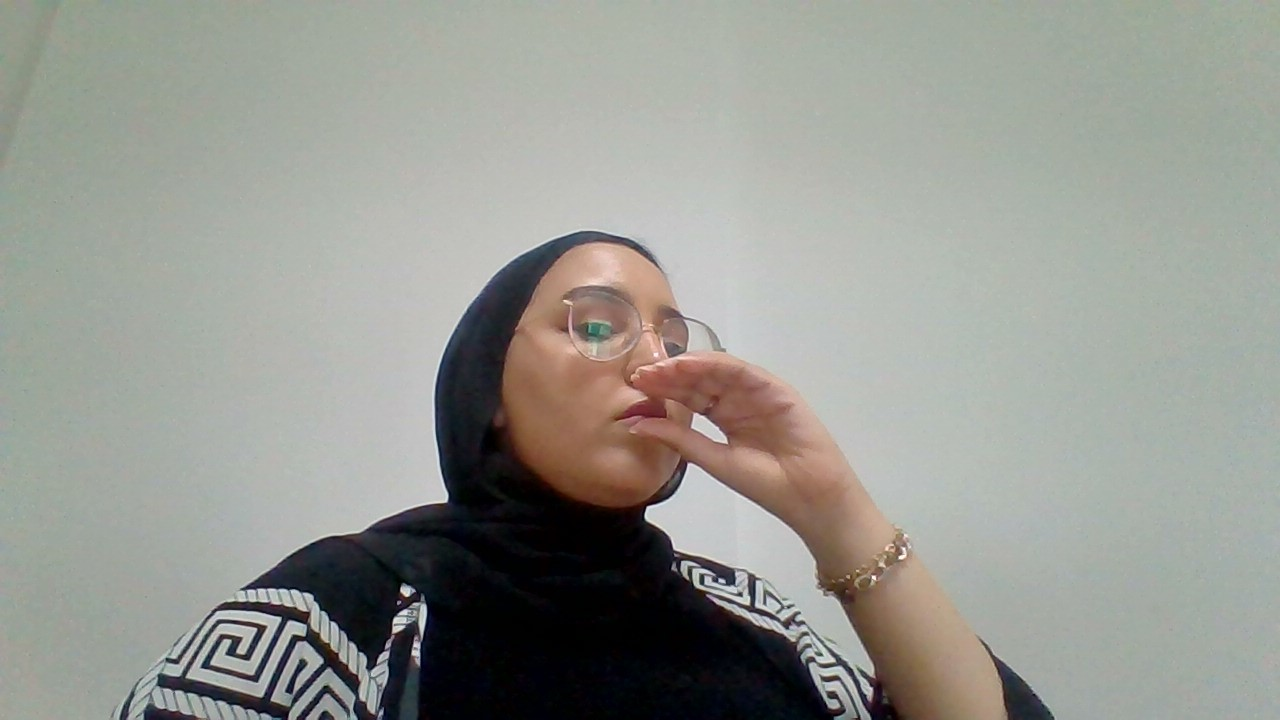drink: (621, 355, 858, 510)
